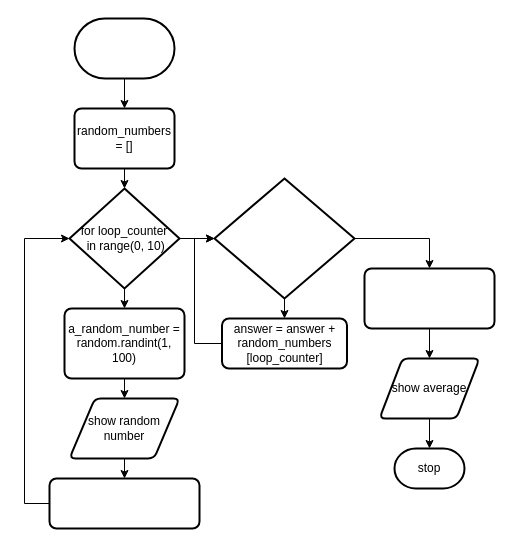
Image size: 513x546. Some labels were removed from this diagram. Here are the shapes that lost their labels. From the top down, the centre of each, then its label:
[124,48]: start
[284,238]: for loop_counter in range(0, len (random_numbers))
[429,298]: print("\nYour average is: {0}".format(average))
[124,503]: random_numbers.append (a_random_number)
